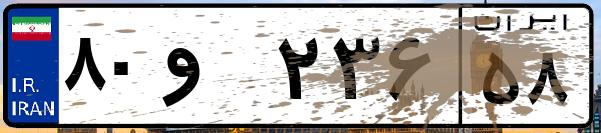0: (110, 28, 158, 98)
2: (270, 28, 330, 110)
3: (330, 28, 385, 110)
5: (475, 38, 525, 113)
6: (385, 28, 445, 110)
8: (57, 26, 110, 100), (525, 38, 570, 115)
و: (158, 20, 270, 120)
